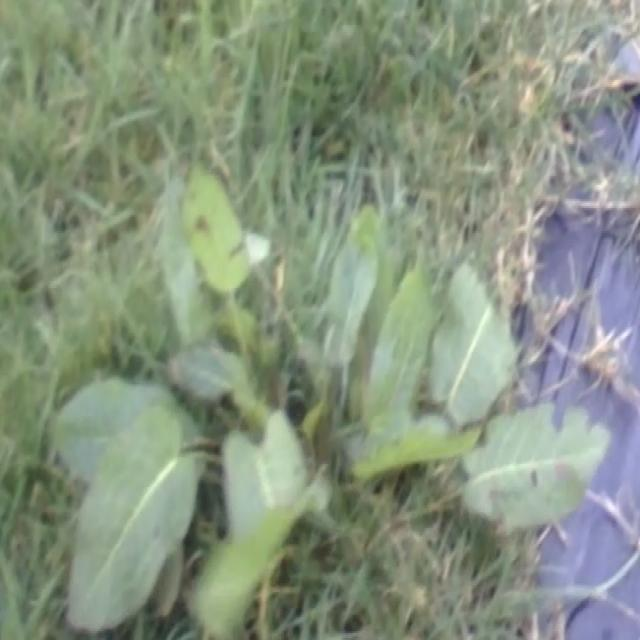organic waste: (40, 142, 618, 640)
